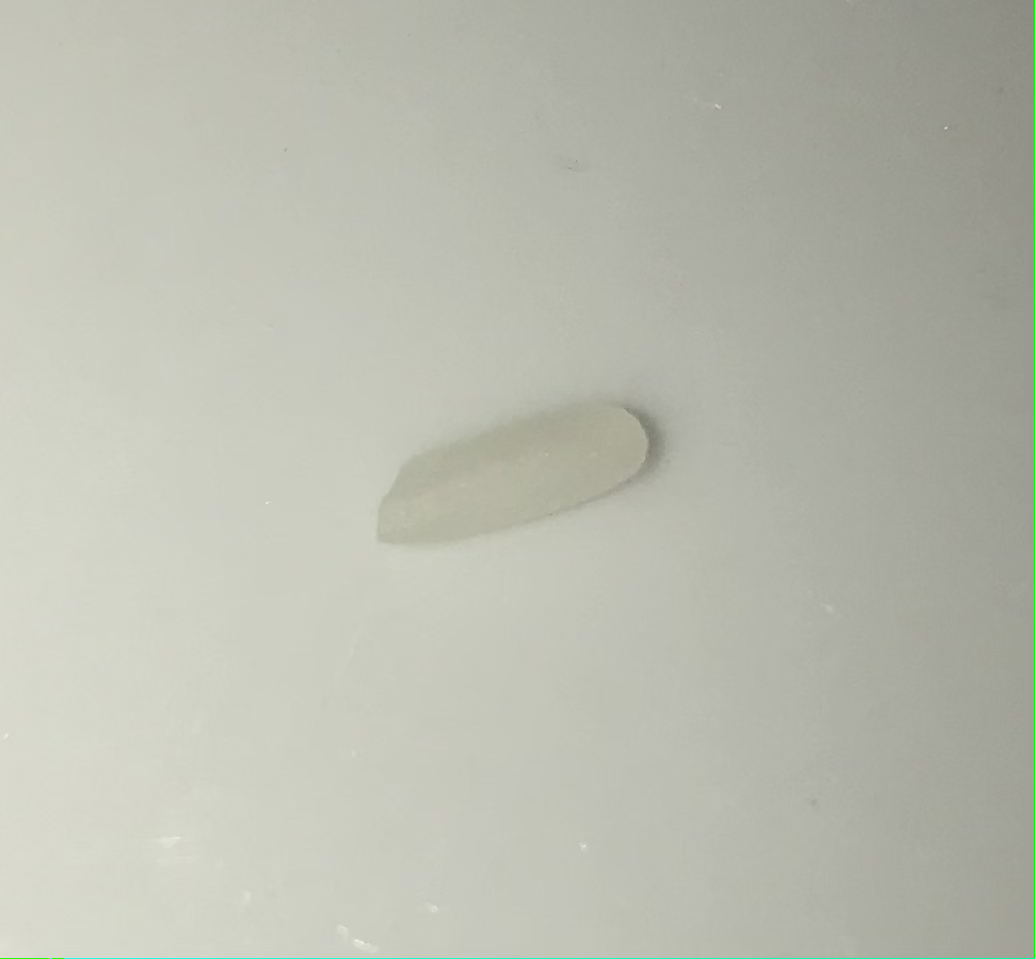Gao Thom Go Cong: (349, 381, 692, 547)
